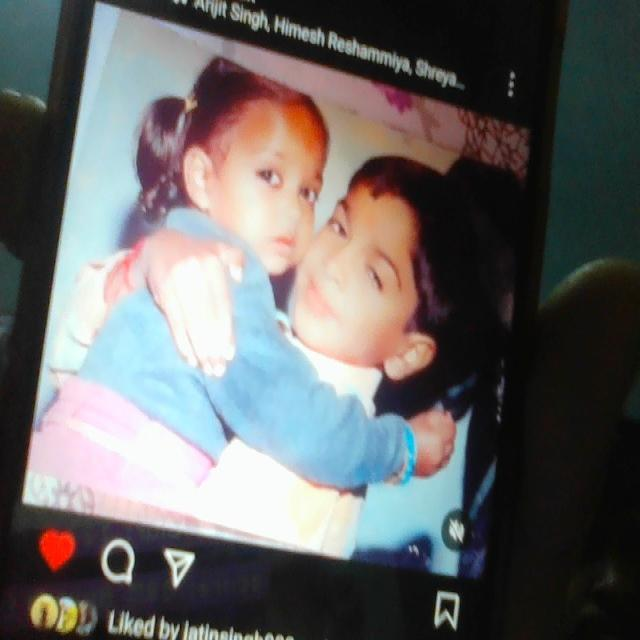fake: (207, 51, 335, 292), (284, 131, 410, 368)
